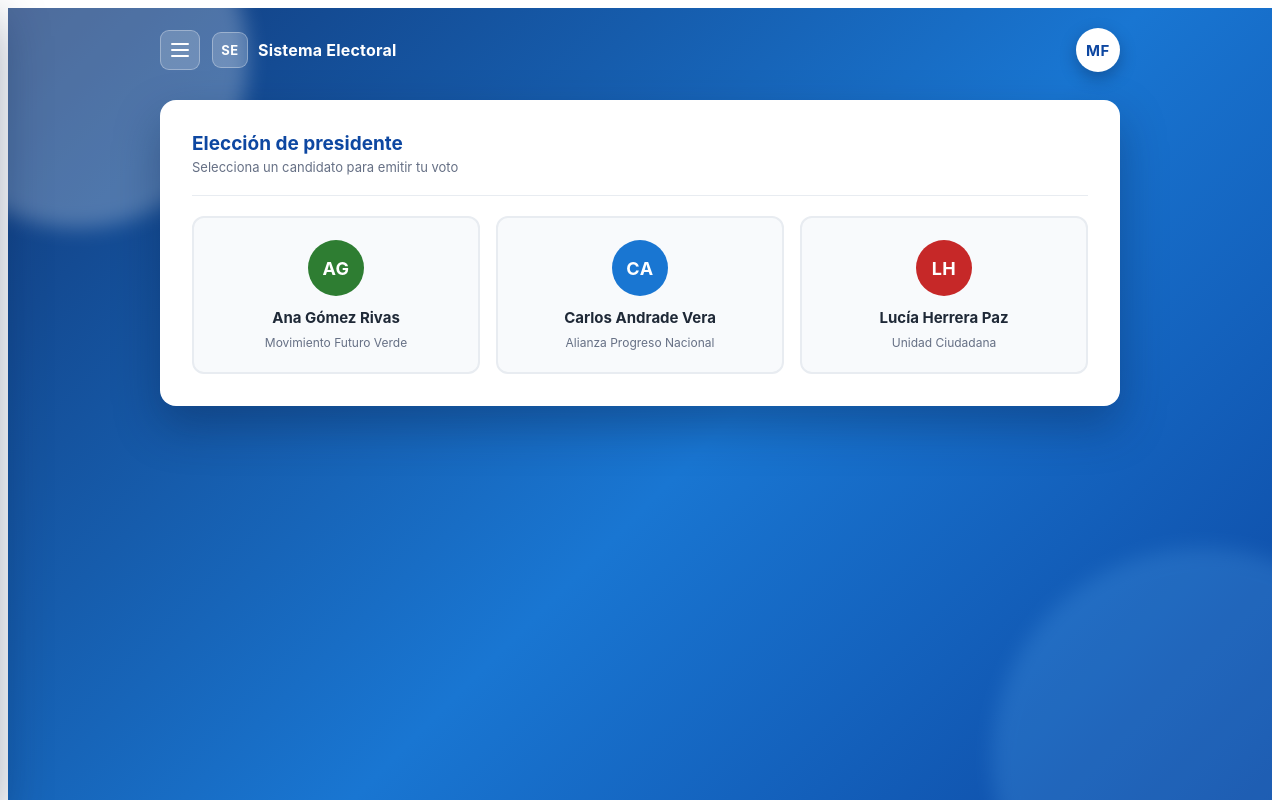
Test: PageDatosVotanteComponent › should close the dropdown when clicking outside of it
Click the button with id "avatar-usuario".
click(1098, 50)  # box [1076, 28, 1120, 72]
(page scrolled)
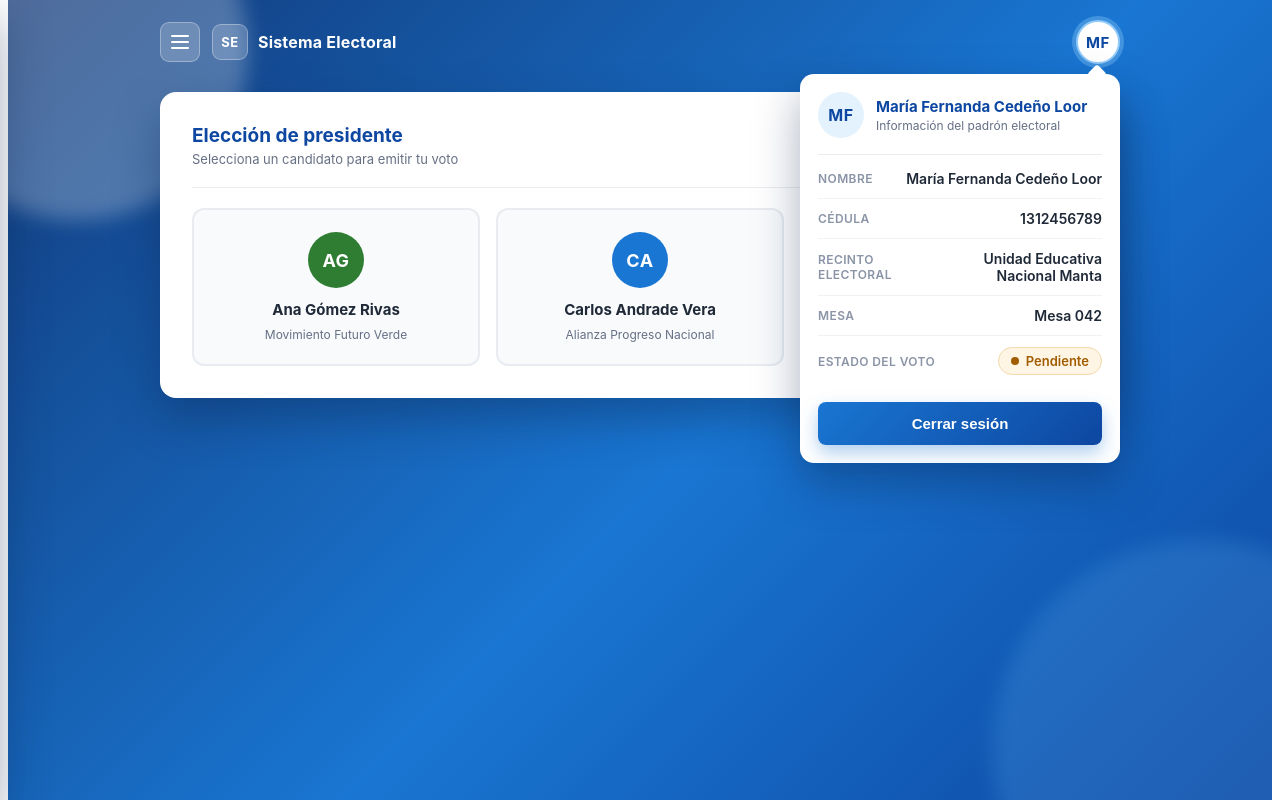
Click the element that starts with "Sistema Electoral".
click(640, 400)  # box [8, 0, 1272, 799]
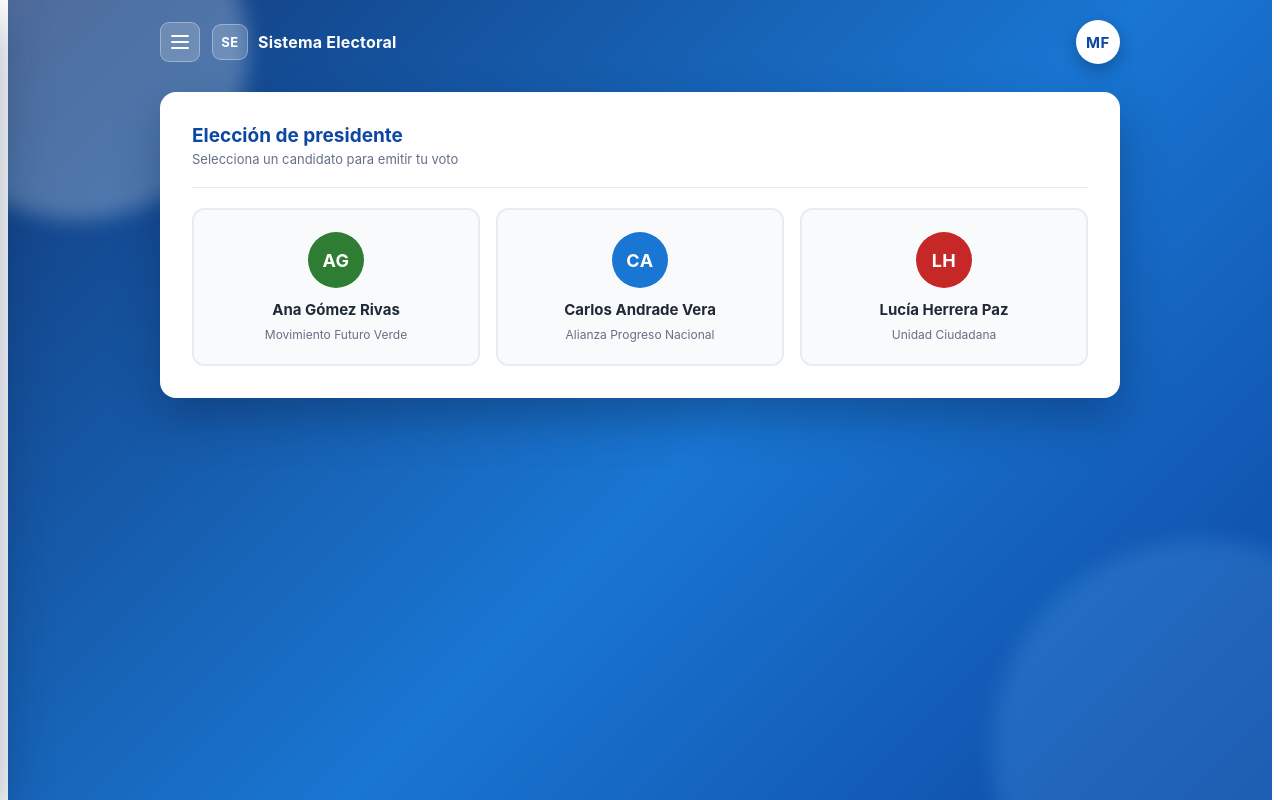
Check: the menu with id "menu-usuario" is gone
